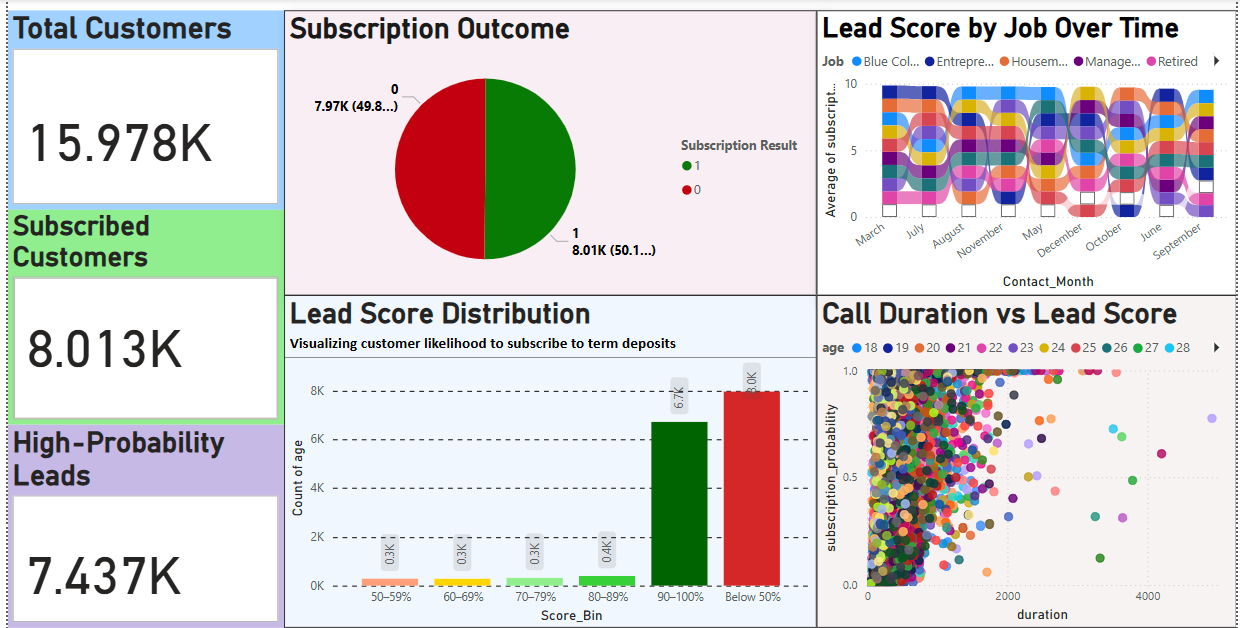

This screenshot's page, from the dashboard's own definition file:
{"tool":"powerbi","page":{"name":"Page 1","canvas":[1280,720],"ordinal":0},"visuals":[{"type":"cardVisual","title":"Total Customers","fields":{"Data":["CountNonNull(bank_predictions.age)"]},"box":[0,11.9,287.9,207.7],"z":0},{"type":"cardVisual","title":"Subscribed Customers","fields":{"Data":["CountNonNull(bank_predictions.actual)"]},"box":[0,219.6,287.9,224.1],"z":1000},{"type":"cardVisual","title":"High-Probability Leads","fields":{"Data":["CountNonNull(bank_predictions.age)"]},"box":[0,443.7,287.9,210.7],"z":2000},{"type":"pieChart","title":"Subscription Outcome","fields":{"Y":["CountNonNull(bank_predictions.actual)"],"Category":["bank_predictions.actual"]},"box":[287.9,11.9,554.9,296.8],"z":3000},{"type":"clusteredColumnChart","title":"Lead Score Distribution","fields":{"Category":["bank_predictions.Score_Bin"],"Y":["CountNonNull(bank_predictions.age)"]},"box":[287.9,308.6,554.9,345.7],"z":4000},{"type":"ribbonChart","title":"Lead Score by Job Over Time","fields":{"Category":["bank_predictions.Contact_Month"],"Series":["bank_predictions.Job"],"Y":["Avg(bank_predictions.subscription_probability)"]},"box":[842.8,11.9,437.7,296.8],"z":5000},{"type":"scatterChart","title":"Call Duration vs Lead Score","fields":{"X":["bank_predictions.duration"],"Y":["bank_predictions.subscription_probability"],"Series":["bank_predictions.age"]},"box":[842.8,308.6,437.7,345.7],"z":6000}]}

Visuals, with their boxes on the page's 1280x720 design canvas (x1, y1, x2, y2). These are canvas units, not pixel positions in the 1240x628 screenshot, which may show the page scaled, cropped or inside an application window:
"Total Customers" cardVisual: 0, 12, 288, 220
"Subscribed Customers" cardVisual: 0, 220, 288, 444
"High-Probability Leads" cardVisual: 0, 444, 288, 654
"Subscription Outcome" pieChart: 288, 12, 843, 309
"Lead Score Distribution" clusteredColumnChart: 288, 309, 843, 654
"Lead Score by Job Over Time" ribbonChart: 843, 12, 1280, 309
"Call Duration vs Lead Score" scatterChart: 843, 309, 1280, 654
